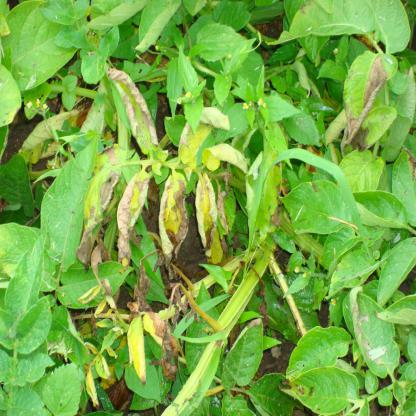Potato leaf late blight: (100, 60, 169, 168), (112, 167, 150, 267), (156, 167, 191, 268), (194, 168, 230, 266), (82, 173, 117, 270)
